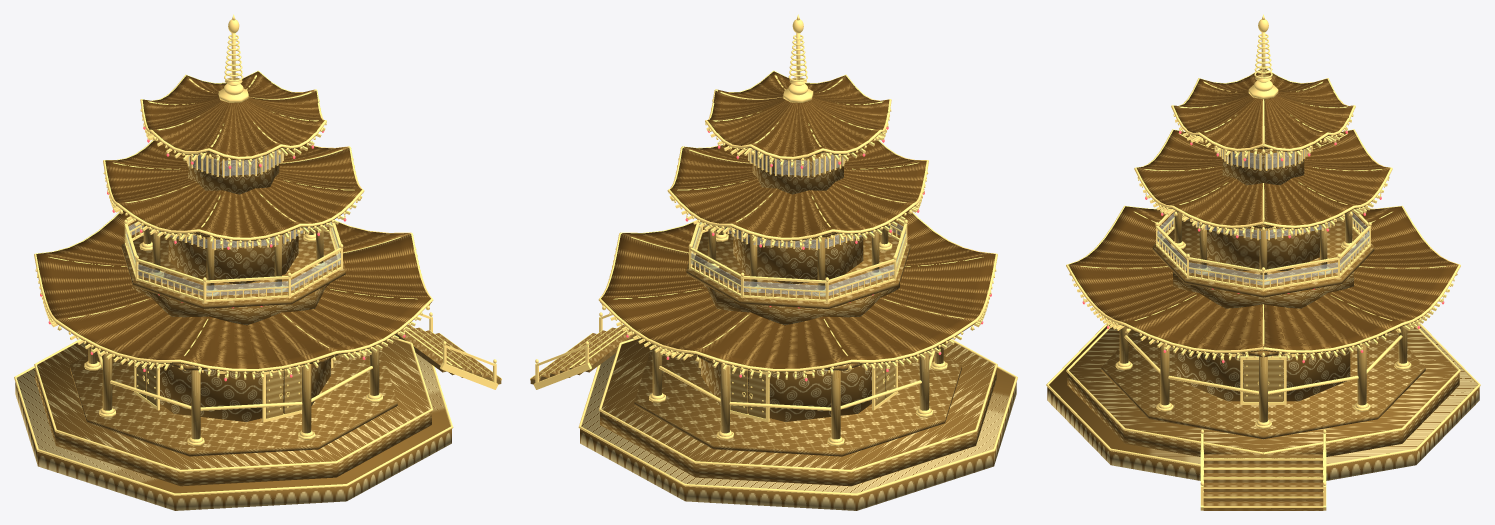
File: pavilion_b.glb
The picture shows the model from 3 angles, left to right: view 1: azimuth 30°, elevation 25°; view 2: azimuth 150°, elevation 25°; view 3: azimuth 270°, elevation 25°; orthographic projection. The views are drawn at different scales.
Visible parts, largest first — view 1: oroof, Cylinder.001, oroof.001, Cylinder.002, Cylinder, oroof.002, Cylinder.183, Cylinder.043, Cylinder.240, Cylinder.339, Cylinder.182, trim.012 (+13 smaller); view 2: oroof, Cylinder.001, oroof.001, Cylinder.002, Cylinder, oroof.002, Cylinder.183, Cylinder.043, Cylinder.240, Cylinder.339, Cylinder.182, trim.012 (+13 smaller); view 3: oroof, oroof.001, Cylinder.001, Cylinder.002, oroof.002, Cylinder, Cylinder.183, Cylinder.043, Cylinder.240, Cylinder.182, Cylinder.339, trim.012 (+18 smaller).
Part boxes in pixels (box(x1,y1,x2,y2)): oroof: box(36, 210, 431, 372); Cylinder.001: box(35, 338, 431, 486); oroof.001: box(105, 138, 361, 241); Cylinder.002: box(70, 349, 397, 456); Cylinder: box(15, 353, 451, 510); oroof.002: box(142, 71, 324, 160); Cylinder.183: box(121, 227, 345, 308); Cylinder.043: box(160, 359, 330, 421); Cylinder.240: box(168, 229, 298, 284); Cylinder.339: box(188, 149, 279, 194); Cylinder.182: box(132, 283, 329, 325); trim.012: box(34, 212, 433, 371); oroof: box(600, 210, 995, 372); Cylinder.001: box(600, 338, 996, 486); oroof.001: box(670, 138, 926, 241); Cylinder.002: box(634, 349, 961, 456); Cylinder: box(580, 353, 1016, 510); oroof.002: box(707, 71, 889, 160); Cylinder.183: box(686, 227, 910, 308); Cylinder.043: box(701, 359, 871, 421); Cylinder.240: box(733, 229, 863, 284); Cylinder.339: box(752, 149, 843, 194); Cylinder.182: box(702, 283, 899, 325); trim.012: box(598, 212, 997, 371); oroof: box(1068, 206, 1458, 353); oroof.001: box(1136, 130, 1390, 229); Cylinder.001: box(1067, 327, 1459, 456); Cylinder.002: box(1101, 332, 1425, 439); oroof.002: box(1173, 69, 1353, 152); Cylinder: box(1047, 324, 1479, 480); Cylinder.183: box(1152, 218, 1374, 297); Cylinder.043: box(1176, 348, 1350, 401); Cylinder.240: box(1207, 225, 1319, 270); Cylinder.182: box(1173, 272, 1353, 308); Cylinder.339: box(1222, 148, 1304, 185); trim.012: box(1066, 205, 1460, 353).
Bounding box in the file's own units: 16.85 × 15.13 × 15.29.
9 materials, 6 textured.
